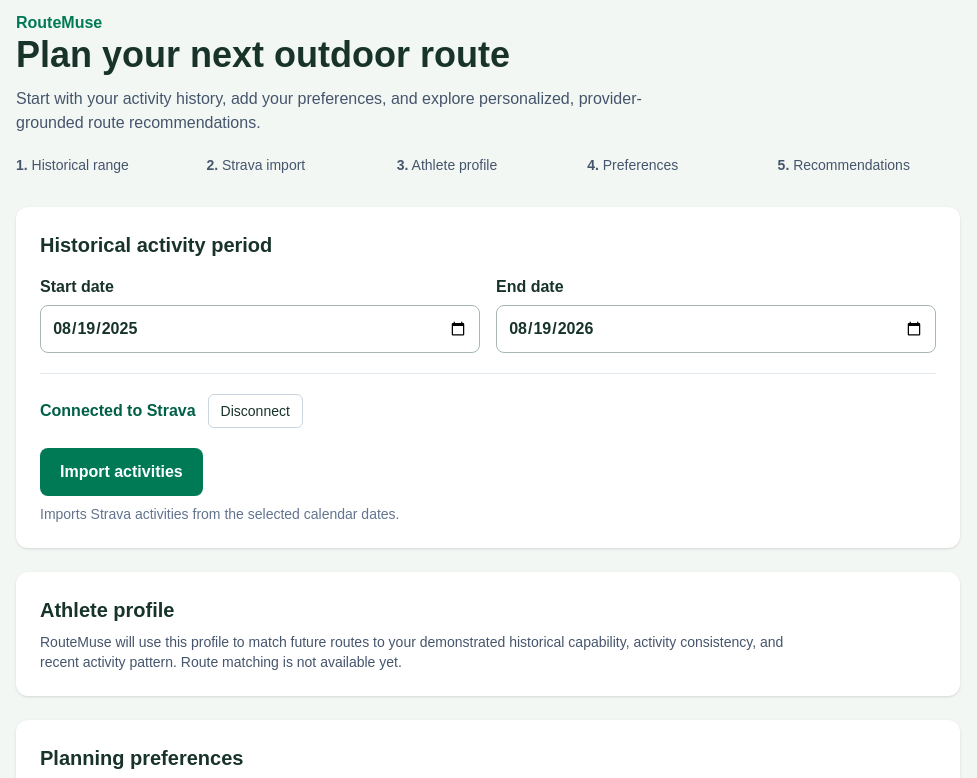
Test: PlannerForm › shows a concise temporary-provider error
Check: the text "Connected to Strava" is shown, box 40,399 -> 196,423
Click the button "Import activities": click(121, 472) 40,448 -> 203,496
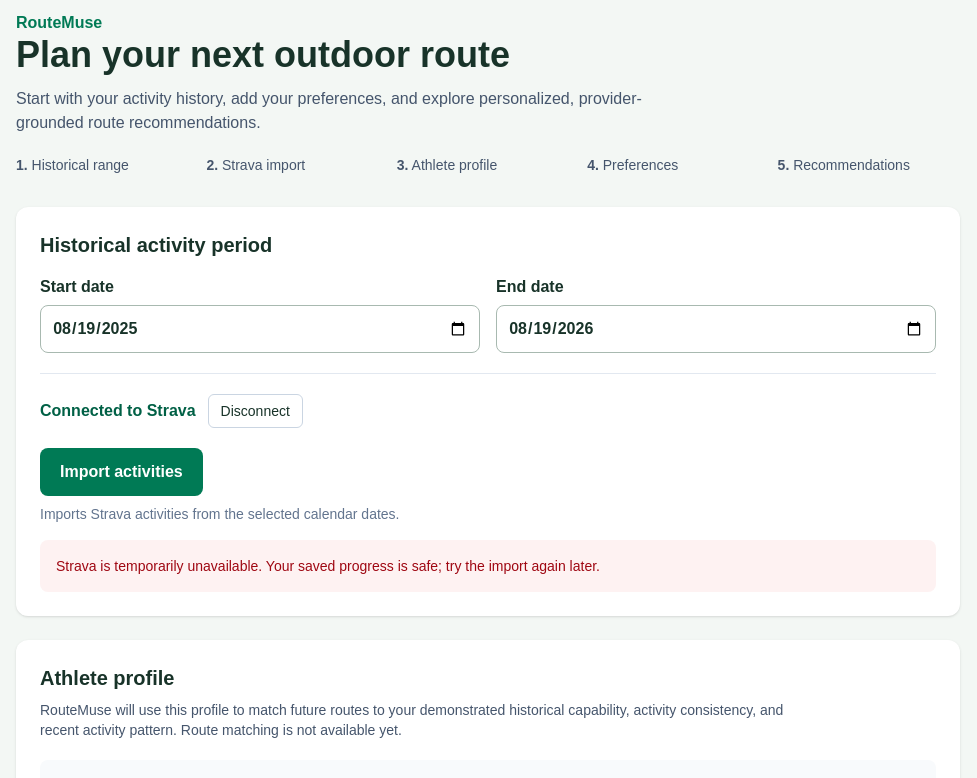
Check: the 2nd message does not show "secret provider response", box 40,540 -> 936,592
Check: the 2nd message shows "Strava is temporarily unavailable", box 56,558 -> 600,574
